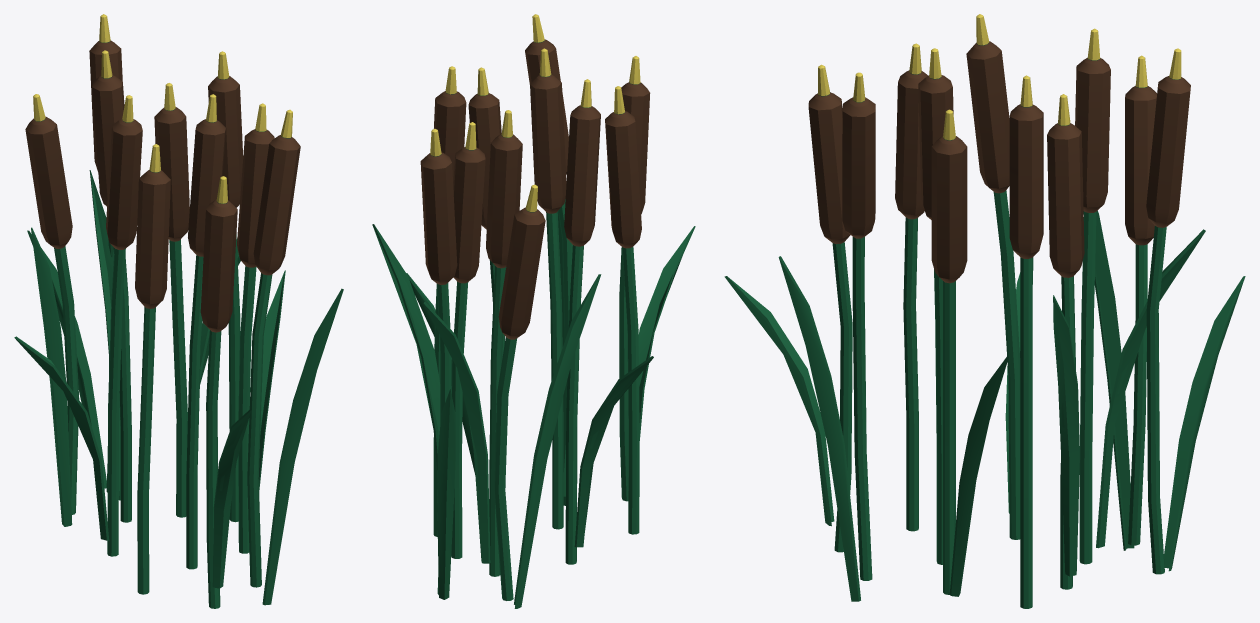
The model's file is Schilf.fbx.
3 views of the same model, side by side, from view 1: azimuth 30°, elevation 25°; view 2: azimuth 150°, elevation 25°; view 3: azimuth 270°, elevation 25° (orthographic). The views are drawn at different scales.
Visible parts, largest first — view 1: Schilf; view 2: Schilf; view 3: Schilf.
Part boxes in pixels (<box>): Schilf: <box>14,14,343,608</box>; Schilf: <box>372,14,695,608</box>; Schilf: <box>724,14,1245,608</box>.
Size of the model in its own units: 44.58 by 76.16 by 66.32.
